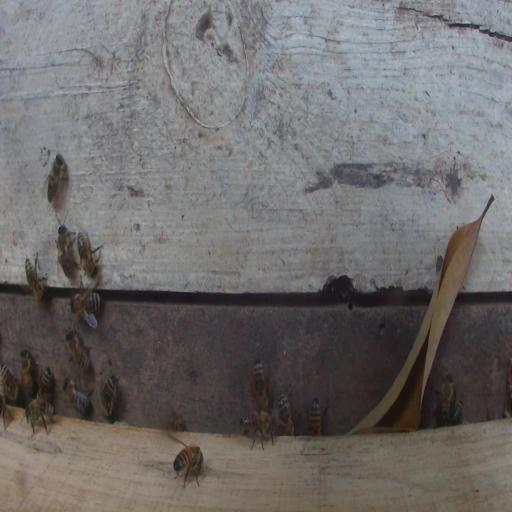nonpollenbee: (239, 410, 277, 450), (172, 444, 204, 488), (76, 230, 101, 280), (66, 327, 92, 375), (71, 288, 102, 328), (56, 222, 78, 278), (63, 376, 93, 417), (24, 252, 48, 302), (44, 152, 67, 204), (433, 373, 455, 426), (25, 396, 54, 436), (19, 346, 36, 400), (252, 359, 268, 411), (101, 373, 118, 419), (277, 393, 295, 436), (1, 363, 19, 404), (38, 366, 55, 401), (309, 397, 322, 436), (170, 410, 188, 432), (451, 401, 463, 425)
